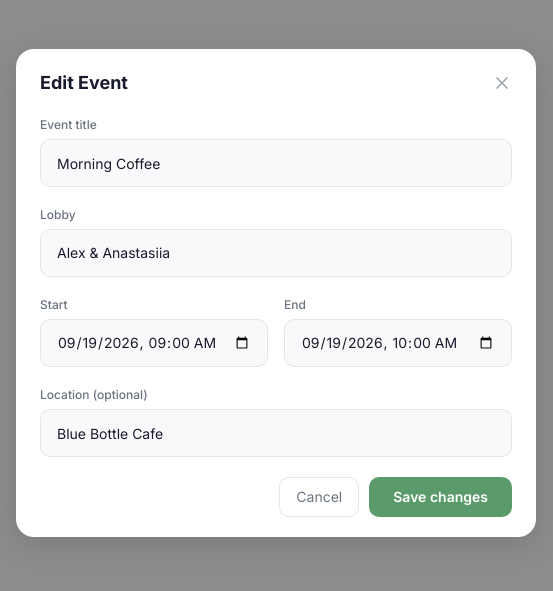
CreateEventModal — edit mode › surfaces a generic error on a 500 response in edit mode
The width and height of the screenshot is (553, 591).
Click the button "Save changes" at (441, 497), box [369, 477, 512, 517]
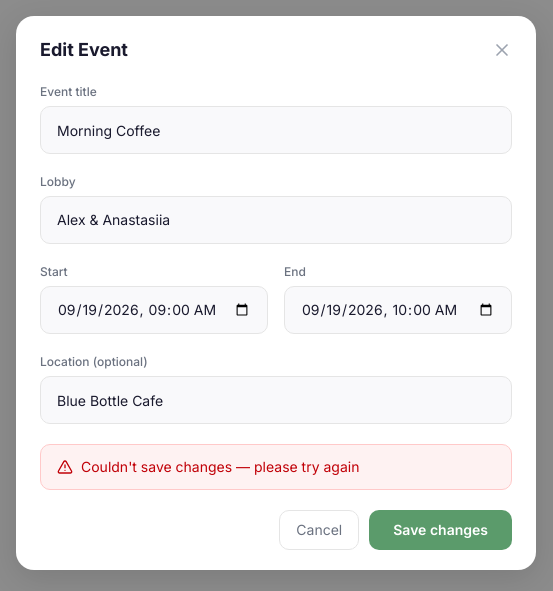
Check: the message reads "Couldn't save changes — please try again", box [81, 458, 360, 475]
